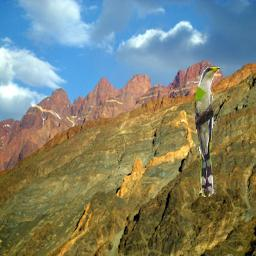Cuckoo: (195, 67, 221, 197)
